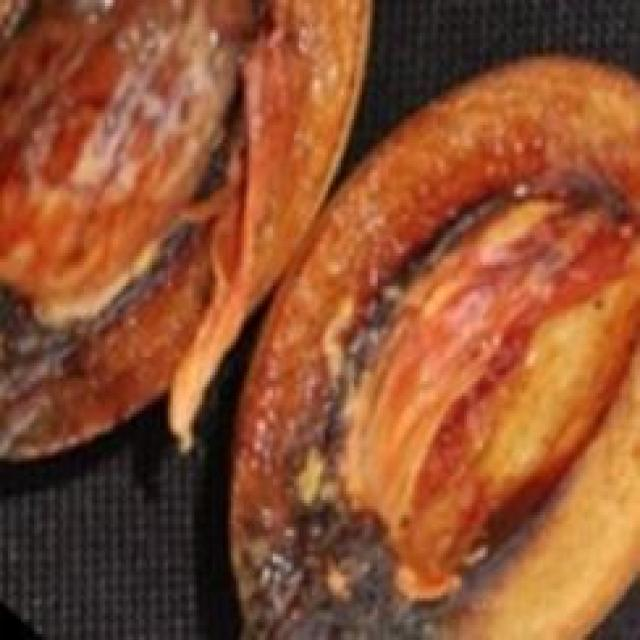damaged: (223, 54, 637, 637)
